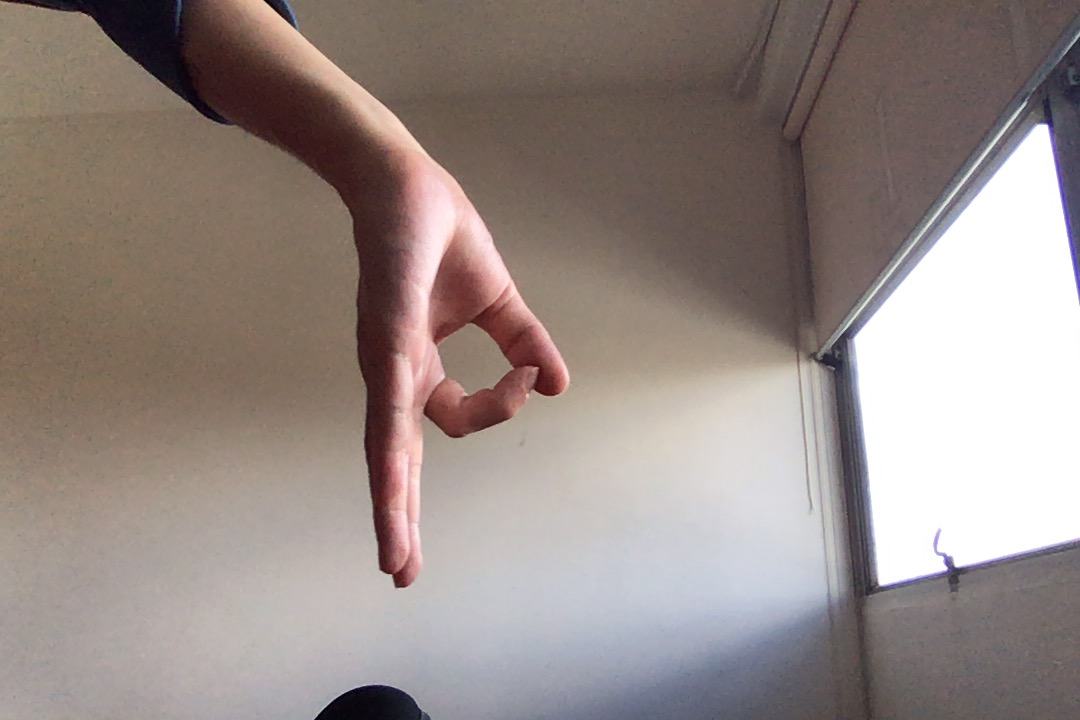oksign: (342, 170, 576, 593)
